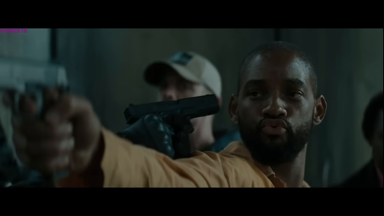firearm: (123, 92, 223, 155), (1, 53, 70, 121)
